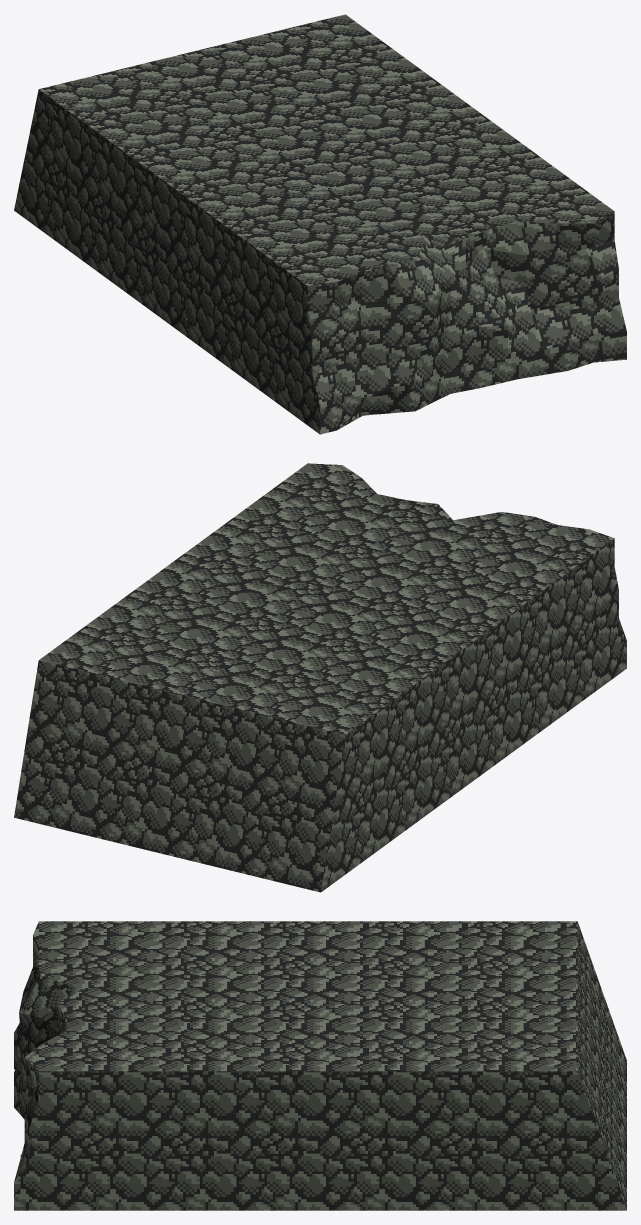
The model's file is DesertCanyonSegment.fbx.
The picture shows the model from 3 angles, top to bottom: view 1: azimuth 30°, elevation 25°; view 2: azimuth 150°, elevation 25°; view 3: azimuth 270°, elevation 25°; orthographic projection.
Visible parts, largest first — view 1: Cube; view 2: Cube; view 3: Cube.
Part boxes in pixels (box(x1,y1,x2,y2)): Cube: box(14, 14, 626, 434); Cube: box(14, 463, 626, 892); Cube: box(14, 921, 626, 1210).
Size of the model in its own units: 60 by 26.18 by 104.
Materials: 1 (1 with a texture image).
